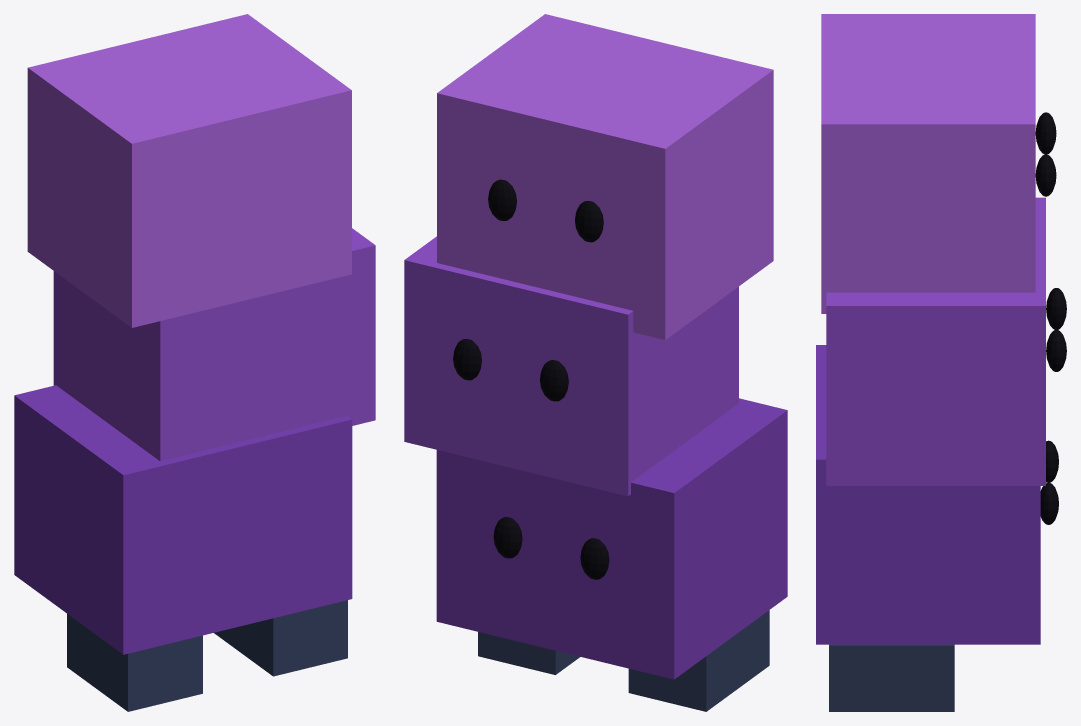
File: SplitStack_Block.glb
3 renders of one model, left to right at view 1: azimuth 30°, elevation 25°; view 2: azimuth 150°, elevation 25°; view 3: azimuth 270°, elevation 25°, orthographic. The views are drawn at different scales.
Parts seen in each view (by area): view 1: TopCube, BottomCube, MiddleCube, FootLeft, FootRight; view 2: TopCube, BottomCube, MiddleCube, FootLeft, FootRight, BottomEyeLeft, BottomEyeRight, TopEyeLeft, MiddleEyeRight, TopEyeRight, MiddleEyeLeft; view 3: TopCube, MiddleCube, BottomCube, FootRight, MiddleEyeLeft, MiddleEyeRight, TopEyeRight, TopEyeLeft, BottomEyeRight, BottomEyeLeft.
Boxes of the visible parts, x1,y1,x2,y2 form: TopCube: [27, 14, 351, 327]; BottomCube: [14, 385, 352, 654]; MiddleCube: [53, 228, 375, 461]; FootLeft: [67, 614, 202, 711]; FootRight: [214, 600, 347, 676]; TopCube: [437, 14, 773, 339]; BottomCube: [436, 398, 787, 679]; MiddleCube: [404, 236, 738, 496]; FootLeft: [628, 610, 769, 711]; FootRight: [478, 632, 580, 674]; BottomEyeLeft: [580, 538, 609, 579]; BottomEyeRight: [493, 517, 522, 558]; TopEyeLeft: [575, 201, 603, 242]; MiddleEyeRight: [453, 339, 481, 380]; TopEyeRight: [488, 179, 516, 220]; MiddleEyeLeft: [540, 360, 568, 401]; TopCube: [821, 14, 1035, 313]; MiddleCube: [826, 197, 1045, 485]; BottomCube: [816, 345, 1040, 644]; FootRight: [829, 644, 954, 711]; MiddleEyeLeft: [1046, 288, 1066, 329]; MiddleEyeRight: [1046, 330, 1066, 371]; TopEyeRight: [1035, 154, 1056, 196]; TopEyeLeft: [1035, 112, 1056, 154]; BottomEyeRight: [1040, 482, 1058, 524]; BottomEyeLeft: [1046, 440, 1058, 482].
Size of the model in its own units: 1.17 by 2.48 by 0.96.
